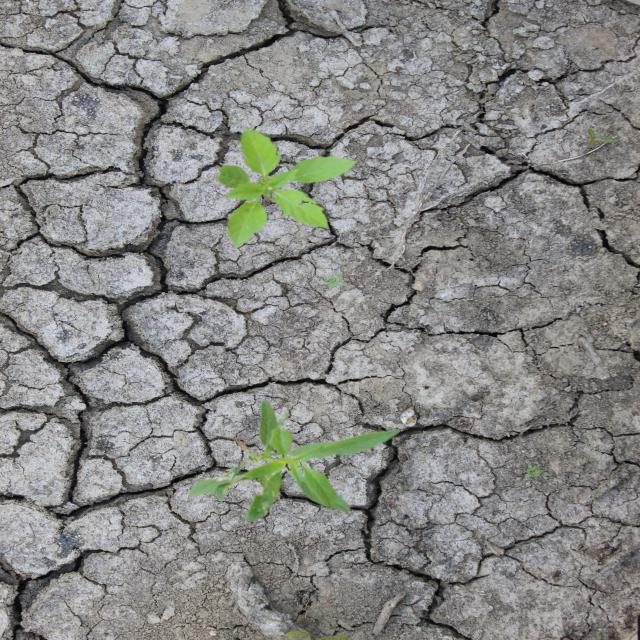CutleafGroundcherry: (216, 126, 359, 249)
Waterhemp: (188, 397, 403, 523)
